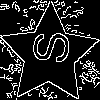S: (24, 29, 70, 65)
